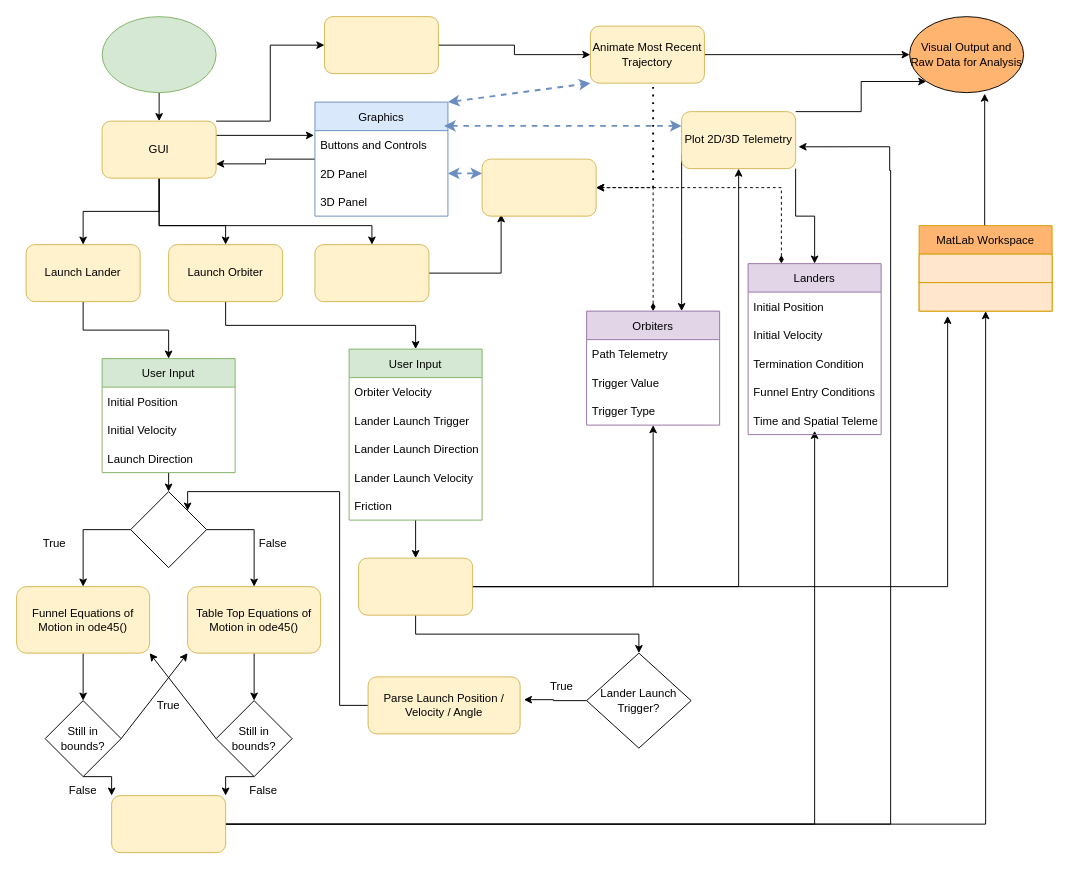
This 1069x869 diagram has some shape labels left out. Here are the shapes that lost their labels. From the top down, the centre of each, then its label:
[158,54]: Start
[380,45]: Playback
[538,187]: Hide All Lander and Orbiter Plots
[371,273]: Reset Sim
[985,268]: Orbiter Data
[985,296]: Lander Data
[168,529]: If in funnel
[415,586]: Trajectory in ode45()
[168,824]: Clean and Compile Lander Telemetry
